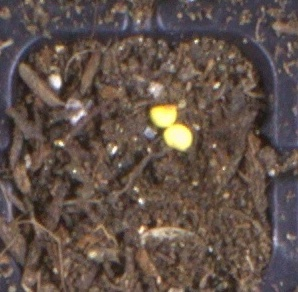chilli seed: (162, 123, 193, 153), (150, 104, 177, 127)
